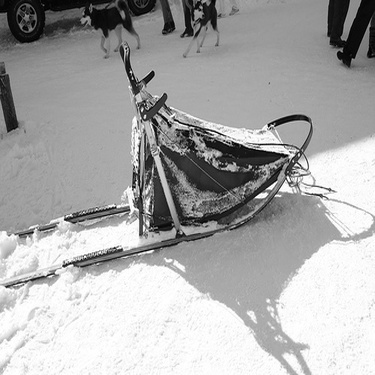dog: (66, 2, 151, 68), (172, 1, 230, 63)
